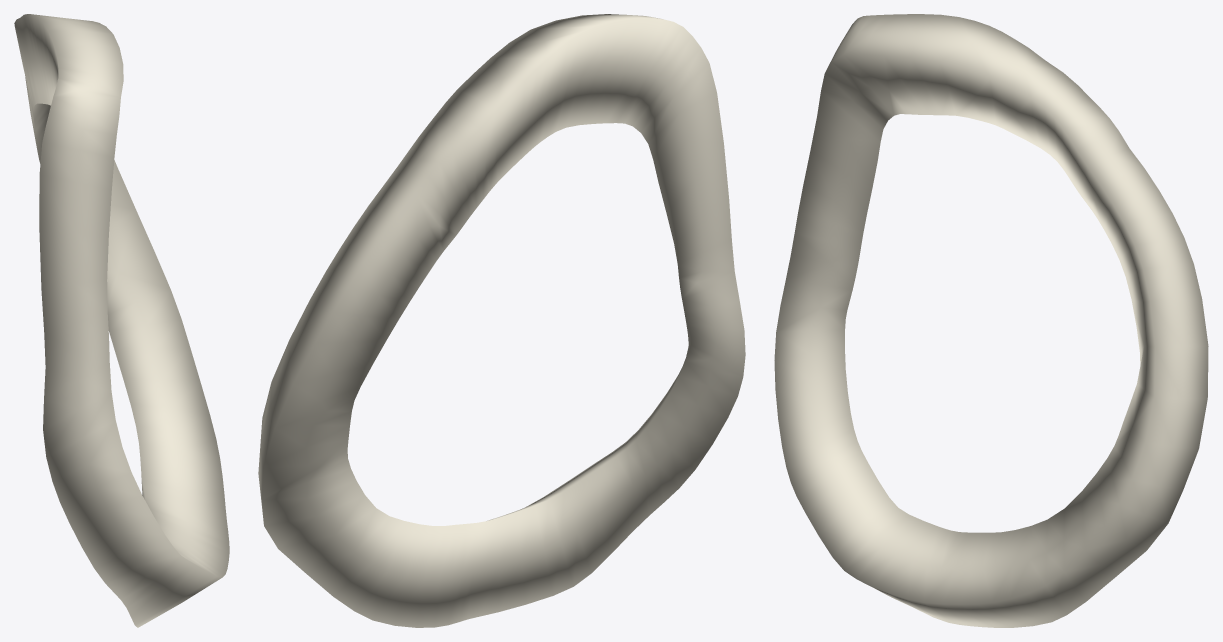
The picture shows the model from 3 angles, left to right: view 1: azimuth 30°, elevation 25°; view 2: azimuth 150°, elevation 25°; view 3: azimuth 270°, elevation 25°; orthographic projection. The views are drawn at different scales.
Parts seen in each view (by area): view 1: ZA_723b5b39790b2b7d; view 2: ZA_723b5b39790b2b7d; view 3: ZA_723b5b39790b2b7d.
Part boxes in pixels (<box>): ZA_723b5b39790b2b7d: <box>14,14,229,627</box>; ZA_723b5b39790b2b7d: <box>258,14,745,627</box>; ZA_723b5b39790b2b7d: <box>774,14,1208,627</box>.
Size of the model in its own units: 0.019 by 0.0358 by 0.0252.
